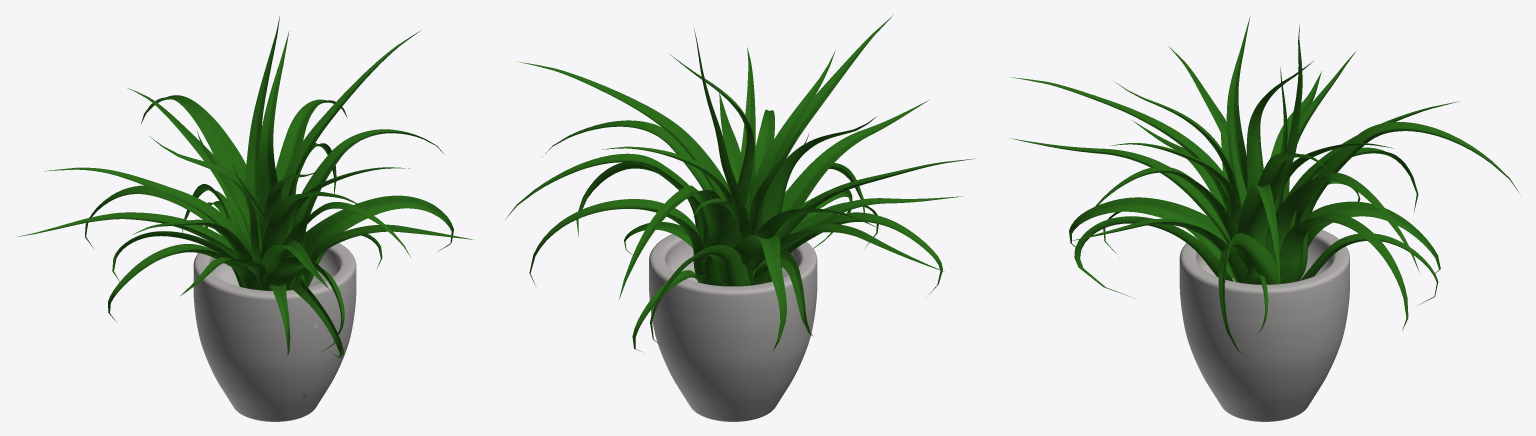
File: simple_pot_and_plant_COMPRESSED.glb
3 renders of one model, left to right at view 1: azimuth 30°, elevation 25°; view 2: azimuth 150°, elevation 25°; view 3: azimuth 270°, elevation 25°, orthographic. The views are drawn at different scales.
Parts seen in each view (by area): view 1: planta join.001_Material.003_0, POT__0; view 2: planta join.001_Material.003_0, POT__0; view 3: planta join.001_Material.003_0, POT__0.
Part boxes in pixels (x1,y1,x2,y2): planta join.001_Material.003_0: (17, 16, 474, 358); POT__0: (193, 243, 356, 421); planta join.001_Material.003_0: (505, 15, 975, 351); POT__0: (649, 234, 817, 421); planta join.001_Material.003_0: (1010, 15, 1519, 357); POT__0: (1179, 229, 1349, 421).
Bounding box in the file's own units: 0.1467 × 0.1271 × 0.1512.
